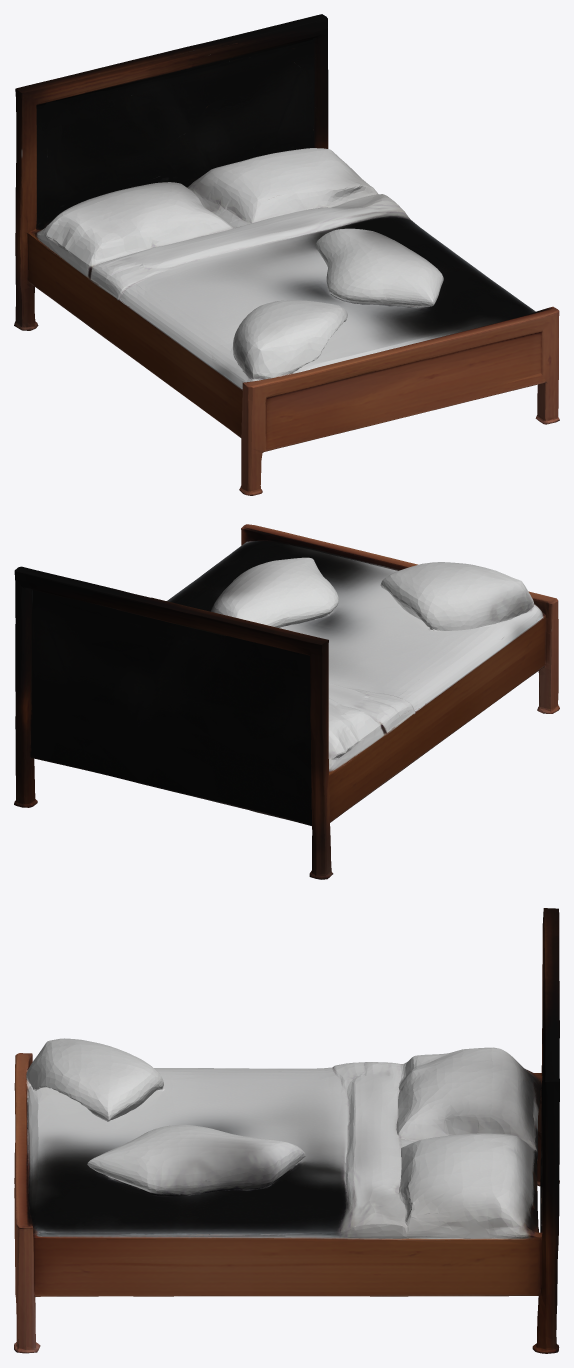
The model's file is 3pics-3_model.glb.
The picture shows the model from 3 angles, top to bottom: view 1: azimuth 30°, elevation 25°; view 2: azimuth 150°, elevation 25°; view 3: azimuth 270°, elevation 25°; orthographic projection. The views are drawn at different scales.
Parts seen in each view (by area): view 1: world; view 2: world; view 3: world.
Boxes of the visible parts, x1=… form: world: x1=14, y1=14, x2=559, y2=495; world: x1=14, y1=524, x2=559, y2=879; world: x1=14, y1=908, x2=559, y2=1353.
Bounding box in the file's own units: 0.7673 × 0.5483 × 0.9997.
1 material, 1 textured.
